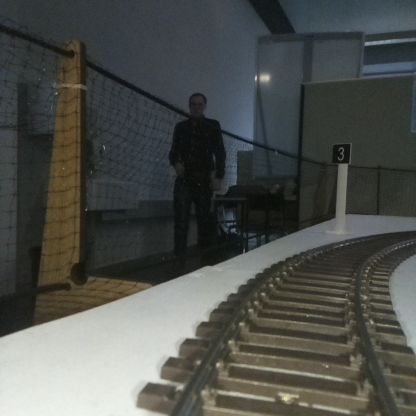black-info-3: (332, 144, 350, 233)
